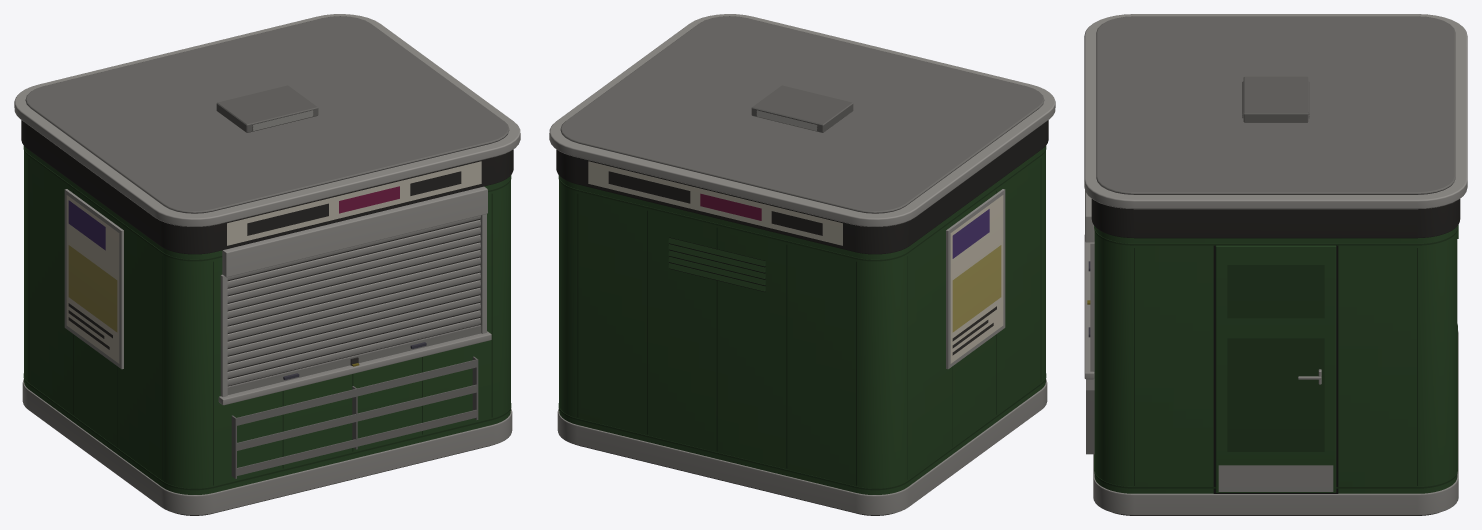
The model's file is kiosk.glb.
3 renders of one model, left to right at view 1: azimuth 30°, elevation 25°; view 2: azimuth 150°, elevation 25°; view 3: azimuth 270°, elevation 25°, orthographic. The views are drawn at different scales.
Visible parts, largest first — view 1: kiosk; view 2: kiosk; view 3: kiosk.
Part boxes in pixels (left/top/right/bottom): kiosk: left=14, top=14, right=520, bottom=515; kiosk: left=549, top=14, right=1055, bottom=515; kiosk: left=1084, top=14, right=1467, bottom=515.
Size of the model in its own units: 3 by 2.5 by 2.6.
